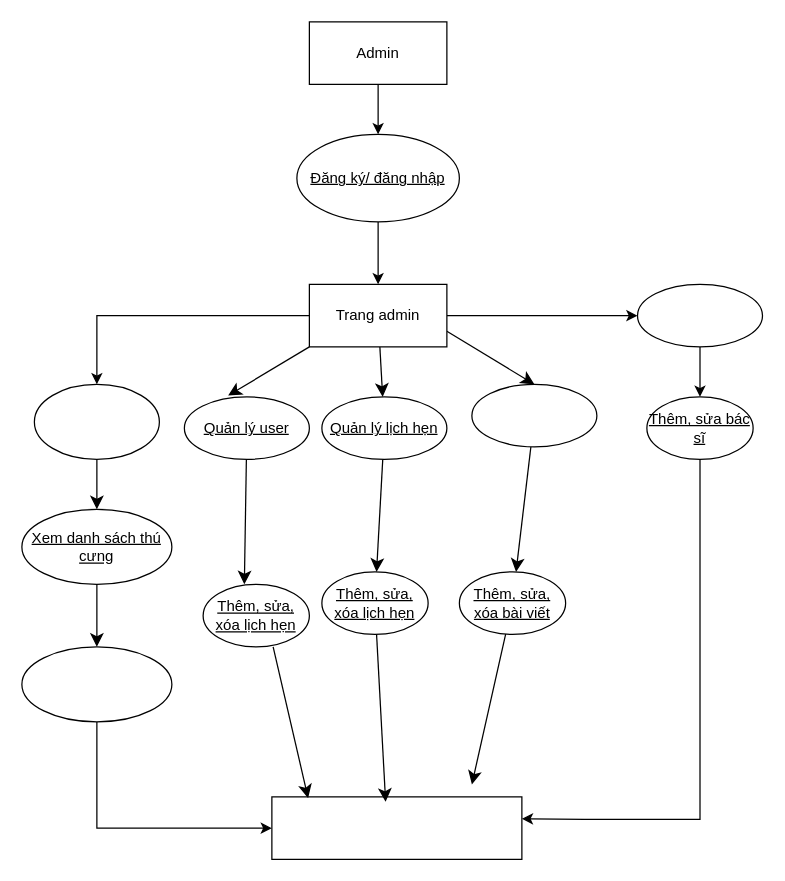
The diagram is 785 pixels wide and 881 high, and some of its shapes have lost their labels. Here are the shapes that lost their labels. From the top down, the centre of each, then its label:
(699,315): Quản lý bác sĩ
(96,421): Quản lí thú cưng
(534,415): Quản lý bài viết
(96,684): Thêm, sửa, xóa thú cưng
(396,827): Database
